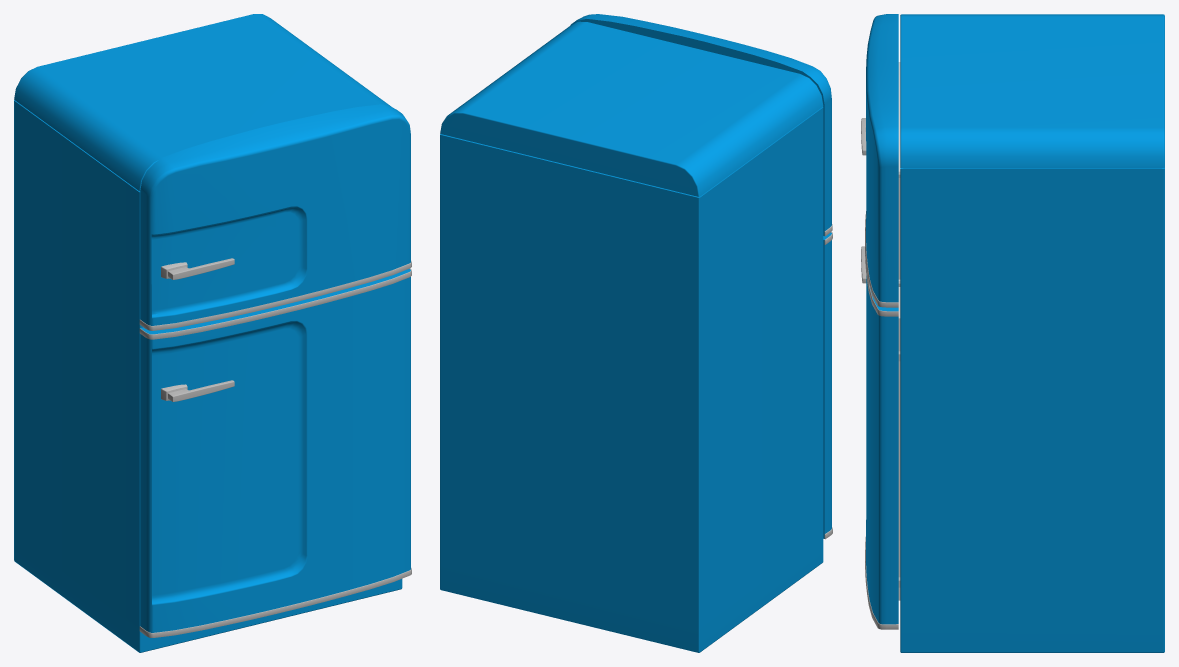
Rendered from Retro Fridge.fbx.
The picture shows the model from 3 angles, left to right: view 1: azimuth 30°, elevation 25°; view 2: azimuth 150°, elevation 25°; view 3: azimuth 270°, elevation 25°; orthographic projection. The views are drawn at different scales.
Parts seen in each view (by area): view 1: polySurface32, polySurface36, polySurface35; view 2: polySurface32, polySurface35, polySurface36; view 3: polySurface32, polySurface36, polySurface35.
Part boxes in pixels (x1,y1,x2,y2): polySurface32: (14,14,402,652); polySurface36: (139,268,411,637); polySurface35: (139,104,411,330); polySurface32: (440,21,823,652); polySurface35: (570,14,832,236); polySurface36: (823,232,832,539); polySurface32: (900,14,1164,652); polySurface36: (861,246,900,629); polySurface35: (861,14,900,307).
Bounding box in the file's own units: 8.85 × 15.88 × 8.38.
